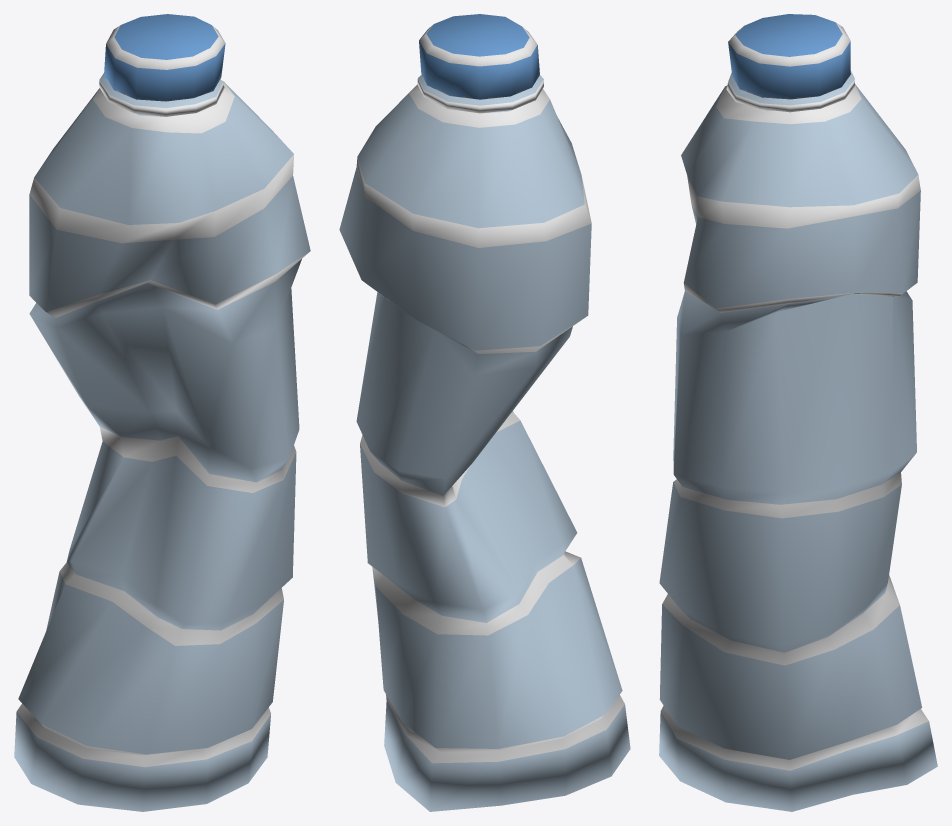
File: plastic bottle.fbx
The picture shows the model from 3 angles, left to right: view 1: azimuth 30°, elevation 25°; view 2: azimuth 150°, elevation 25°; view 3: azimuth 270°, elevation 25°; orthographic projection. The views are drawn at different scales.
Visible parts, largest first — view 1: Plastic bottle; view 2: Plastic bottle; view 3: Plastic bottle.
Part boxes in pixels (bbox=[...]): Plastic bottle: bbox=[14, 14, 310, 811]; Plastic bottle: bbox=[339, 14, 630, 811]; Plastic bottle: bbox=[659, 14, 937, 811].
Bounding box in the file's own units: 21.01 × 56.89 × 19.31.
